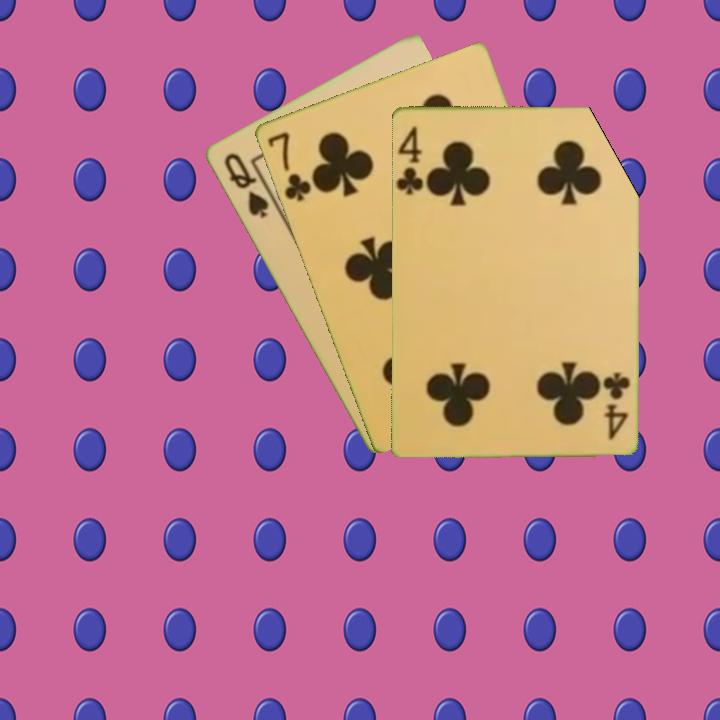4c: (600, 368, 632, 442), (395, 122, 426, 198)
7c: (263, 128, 314, 205)
Qs: (219, 149, 271, 221)
